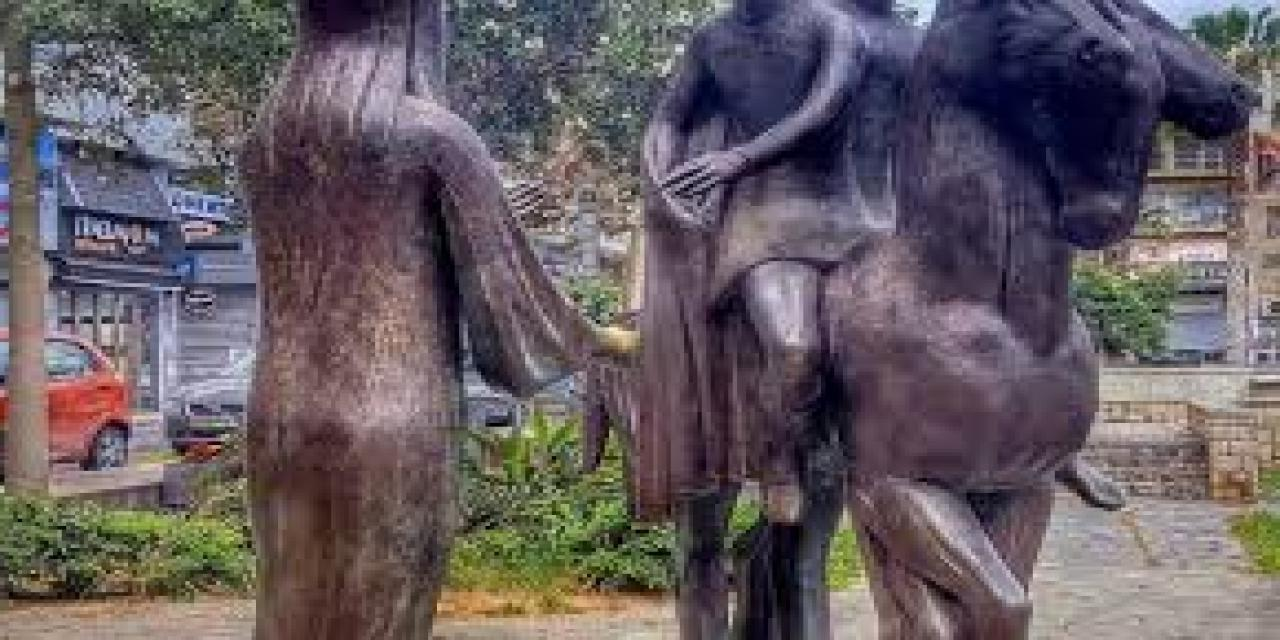Aretousa: (253, 1, 1262, 639)
